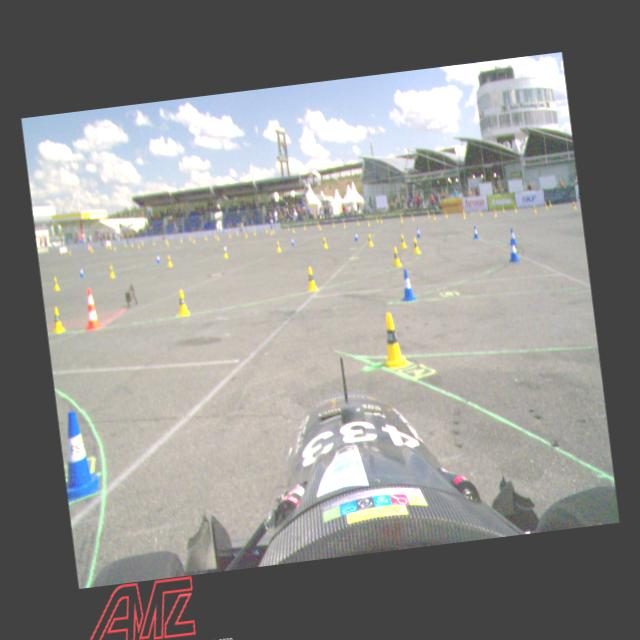blue_cone: (57, 409, 100, 498), (399, 267, 415, 300), (506, 238, 520, 265), (508, 227, 518, 246), (471, 224, 480, 240), (415, 225, 422, 238), (154, 252, 160, 264), (78, 266, 84, 278), (290, 235, 294, 246), (354, 231, 358, 241)
large_orange_cone: (82, 286, 102, 333)
yellow_cone: (374, 307, 410, 373), (173, 289, 190, 317), (49, 303, 64, 333), (304, 264, 318, 290), (391, 246, 402, 266), (411, 237, 421, 254), (50, 276, 60, 292), (106, 262, 115, 276), (398, 232, 406, 247), (366, 232, 374, 246), (165, 252, 172, 266), (275, 238, 281, 252), (322, 236, 328, 249), (222, 246, 228, 258), (571, 196, 576, 210)
